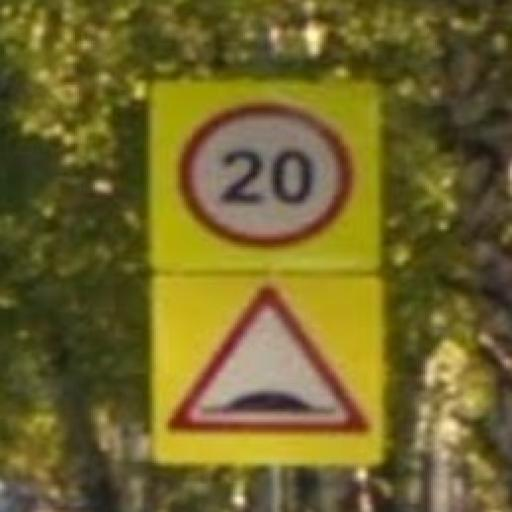traffic_sign: (167, 284, 375, 436), (179, 103, 357, 252)
